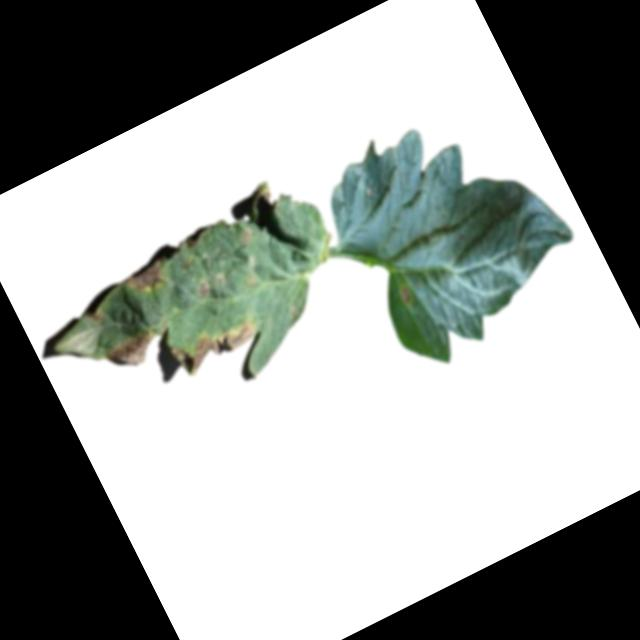Early_blight: (170, 313, 262, 381), (102, 324, 165, 376), (121, 255, 175, 300), (191, 278, 212, 300), (395, 285, 415, 307), (87, 307, 104, 326)
